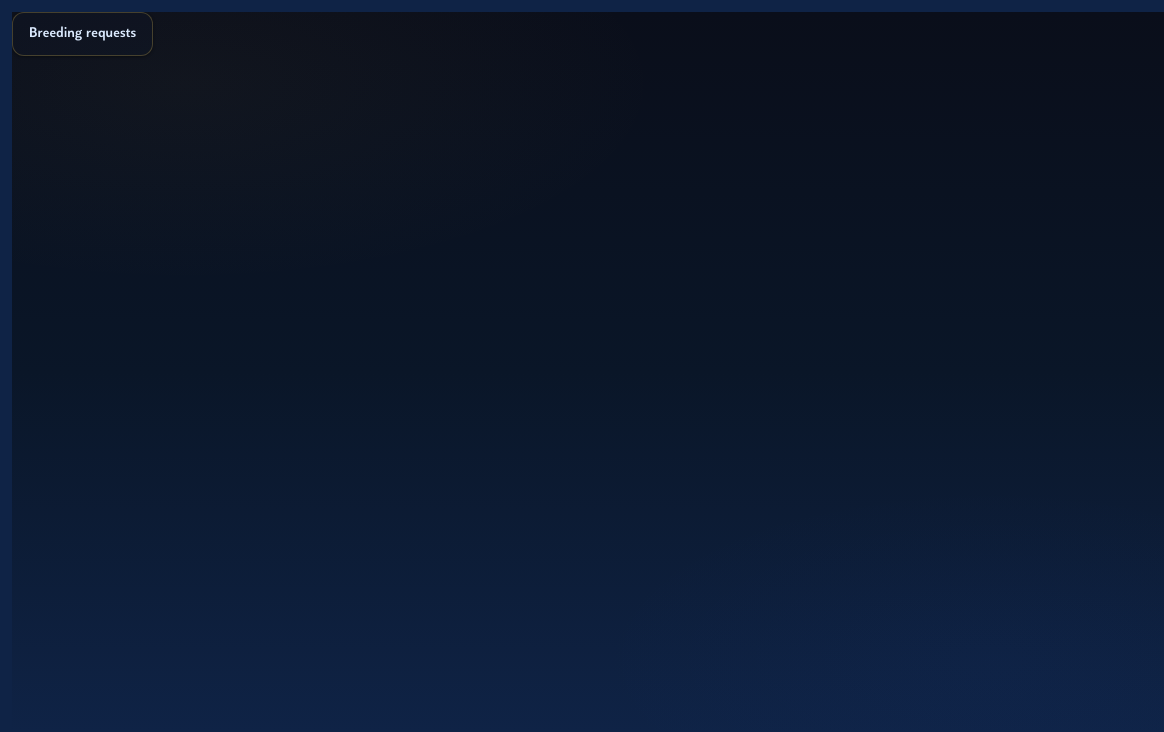
Test case: BreedingRequests › no requests yet is said plainly; a failed read offers Try again
Click the button "Breeding requests" at (83, 34), box [12,12,153,56]
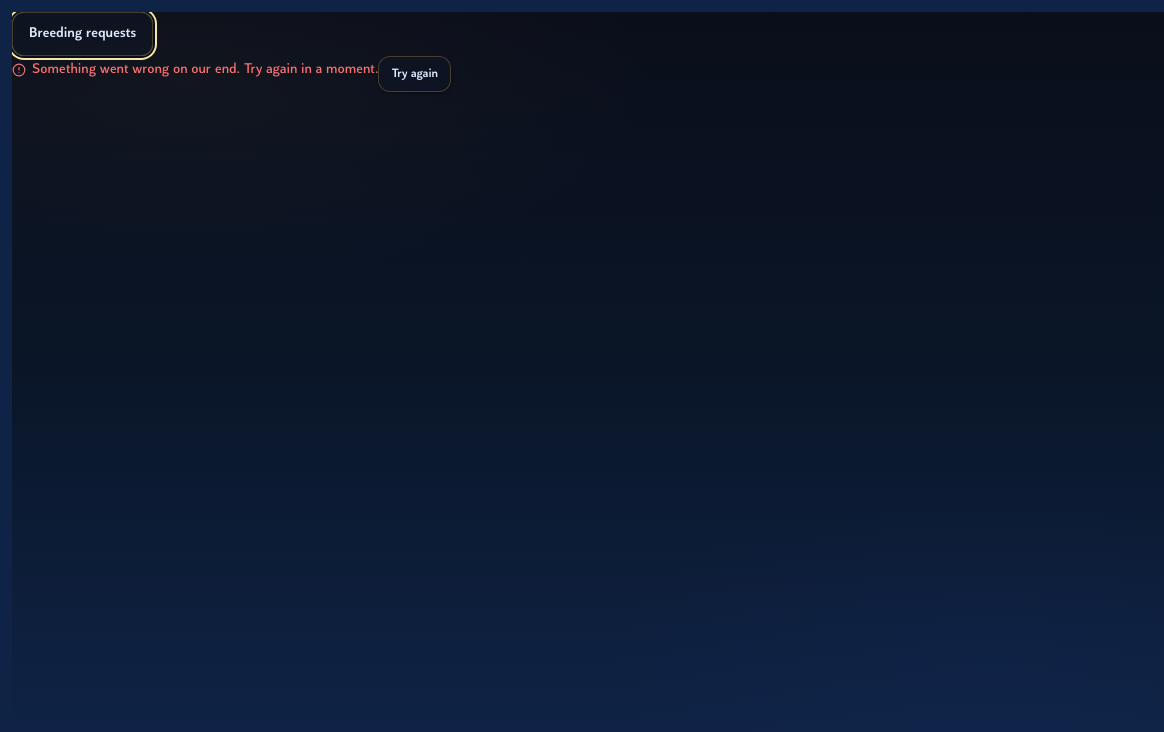
Click the button "Try again" at (415, 74), box [378,56,451,92]
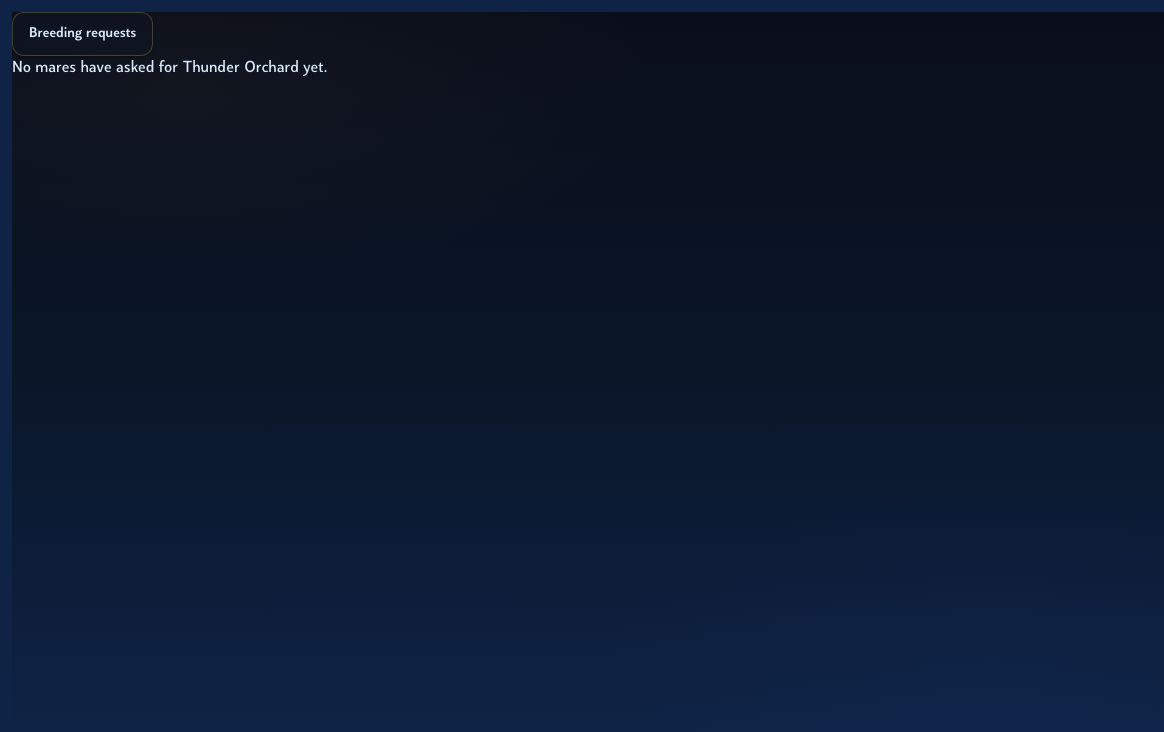
Result: the text "No mares have asked for Thunder Orchard yet." is shown at [12,60,328,76]
